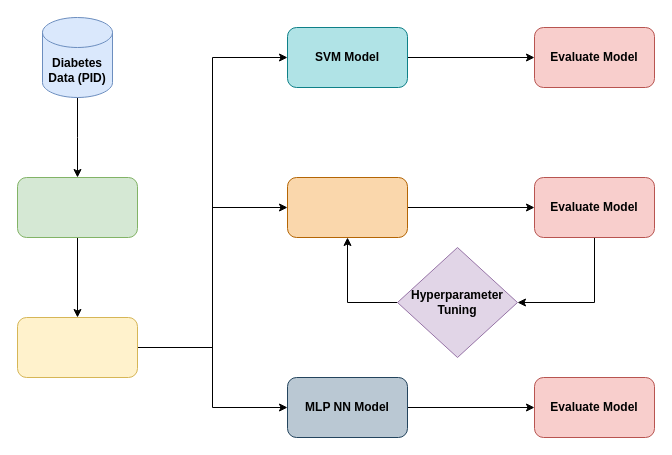
Image size: 672x455. Some labels were removed from this diagram. The centre of each missing label's shape, as x and y in pixels:
"Data Preprocessing" goes at pixel 77 207.
"SLP NN Model" goes at pixel 347 207.
"Split Dataset" goes at pixel 77 347.
